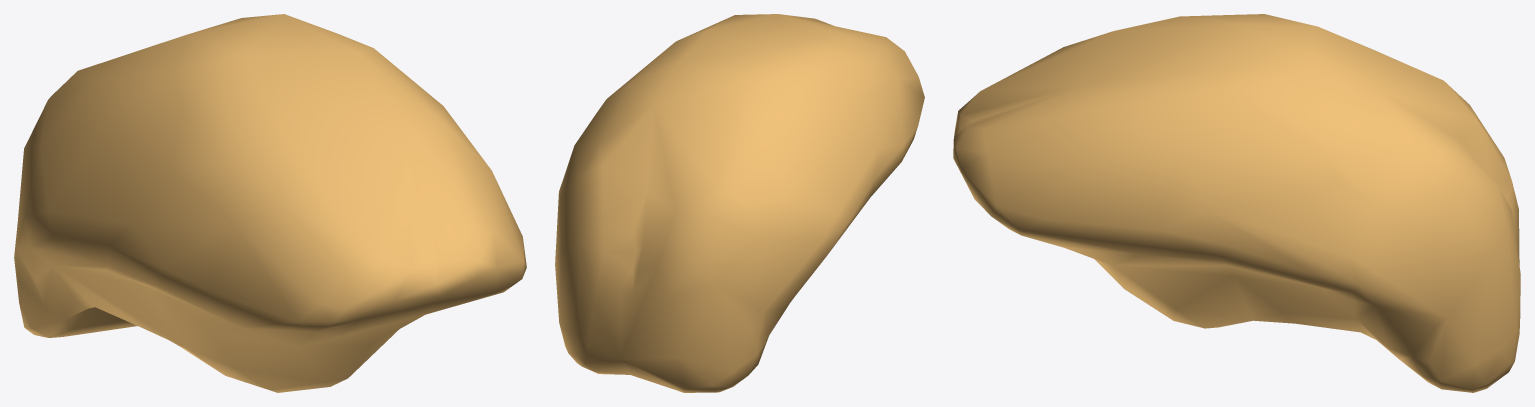
Rendered from lingua.glb.
3 views of the same model, side by side, from view 1: azimuth 30°, elevation 25°; view 2: azimuth 150°, elevation 25°; view 3: azimuth 270°, elevation 25° (orthographic). The views are drawn at different scales.
Visible parts, largest first — view 1: lingua; view 2: lingua; view 3: lingua.
Part boxes in pixels (x1,y1,x2,y2): lingua: (14,14,526,392); lingua: (555,14,924,392); lingua: (953,14,1520,392).
Size of the model in its own units: 0.0388 by 0.0364 by 0.0594.
